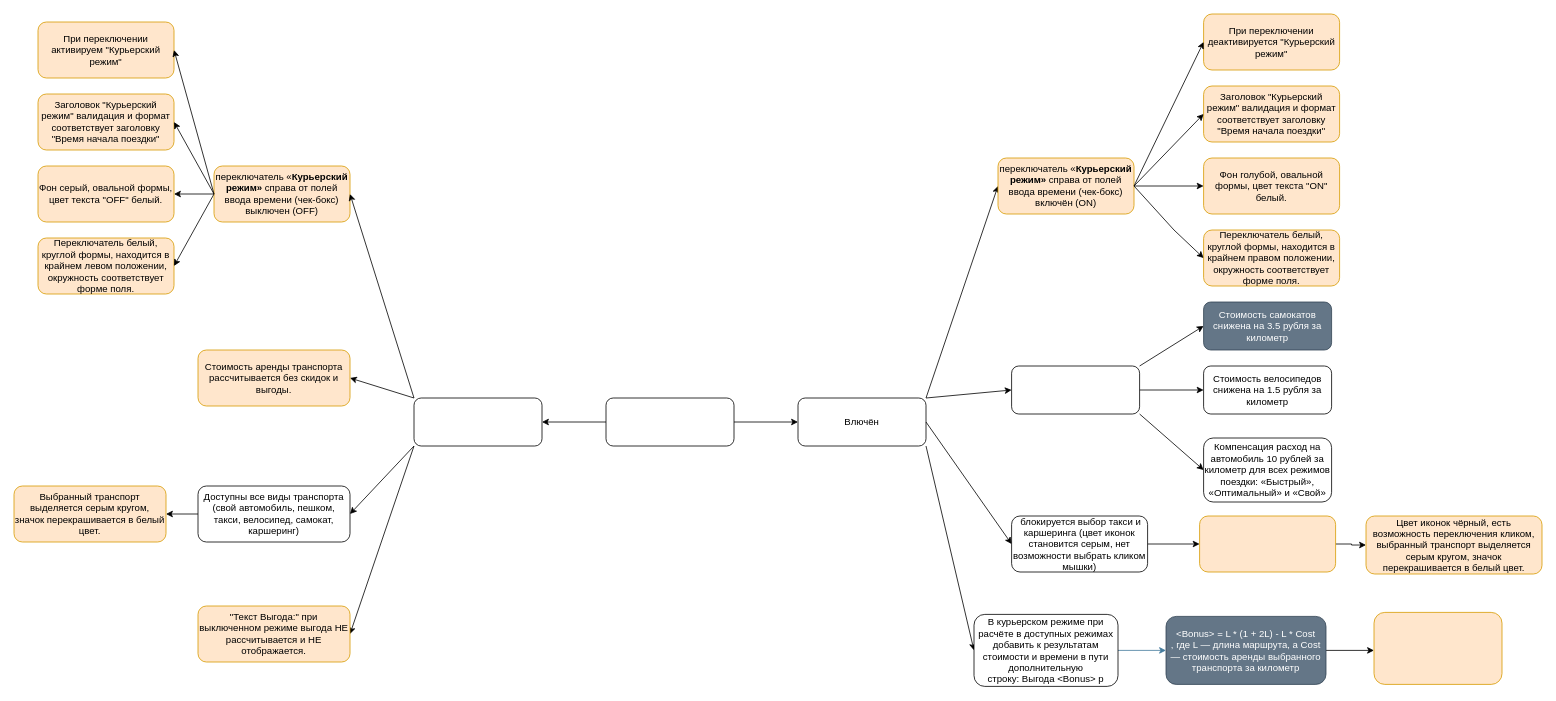
Some shapes in this 1556 by 701 pixel diagram are drawn without their labels. The centre of each missing label's shape, as x and y in pixels:
Выгода может быть отрицательной при дорогой стоимости аренды транспорта.: (x=1437, y=648)
Выключен: (x=477, y=421)
Доступные виды транспорта: велосипед, самокат, пешком или личный автомобиль.: (x=1267, y=543)
Изменяется расчёт стоимости аренды транспорта: (x=1075, y=389)
Курьерский режим: (x=669, y=421)
